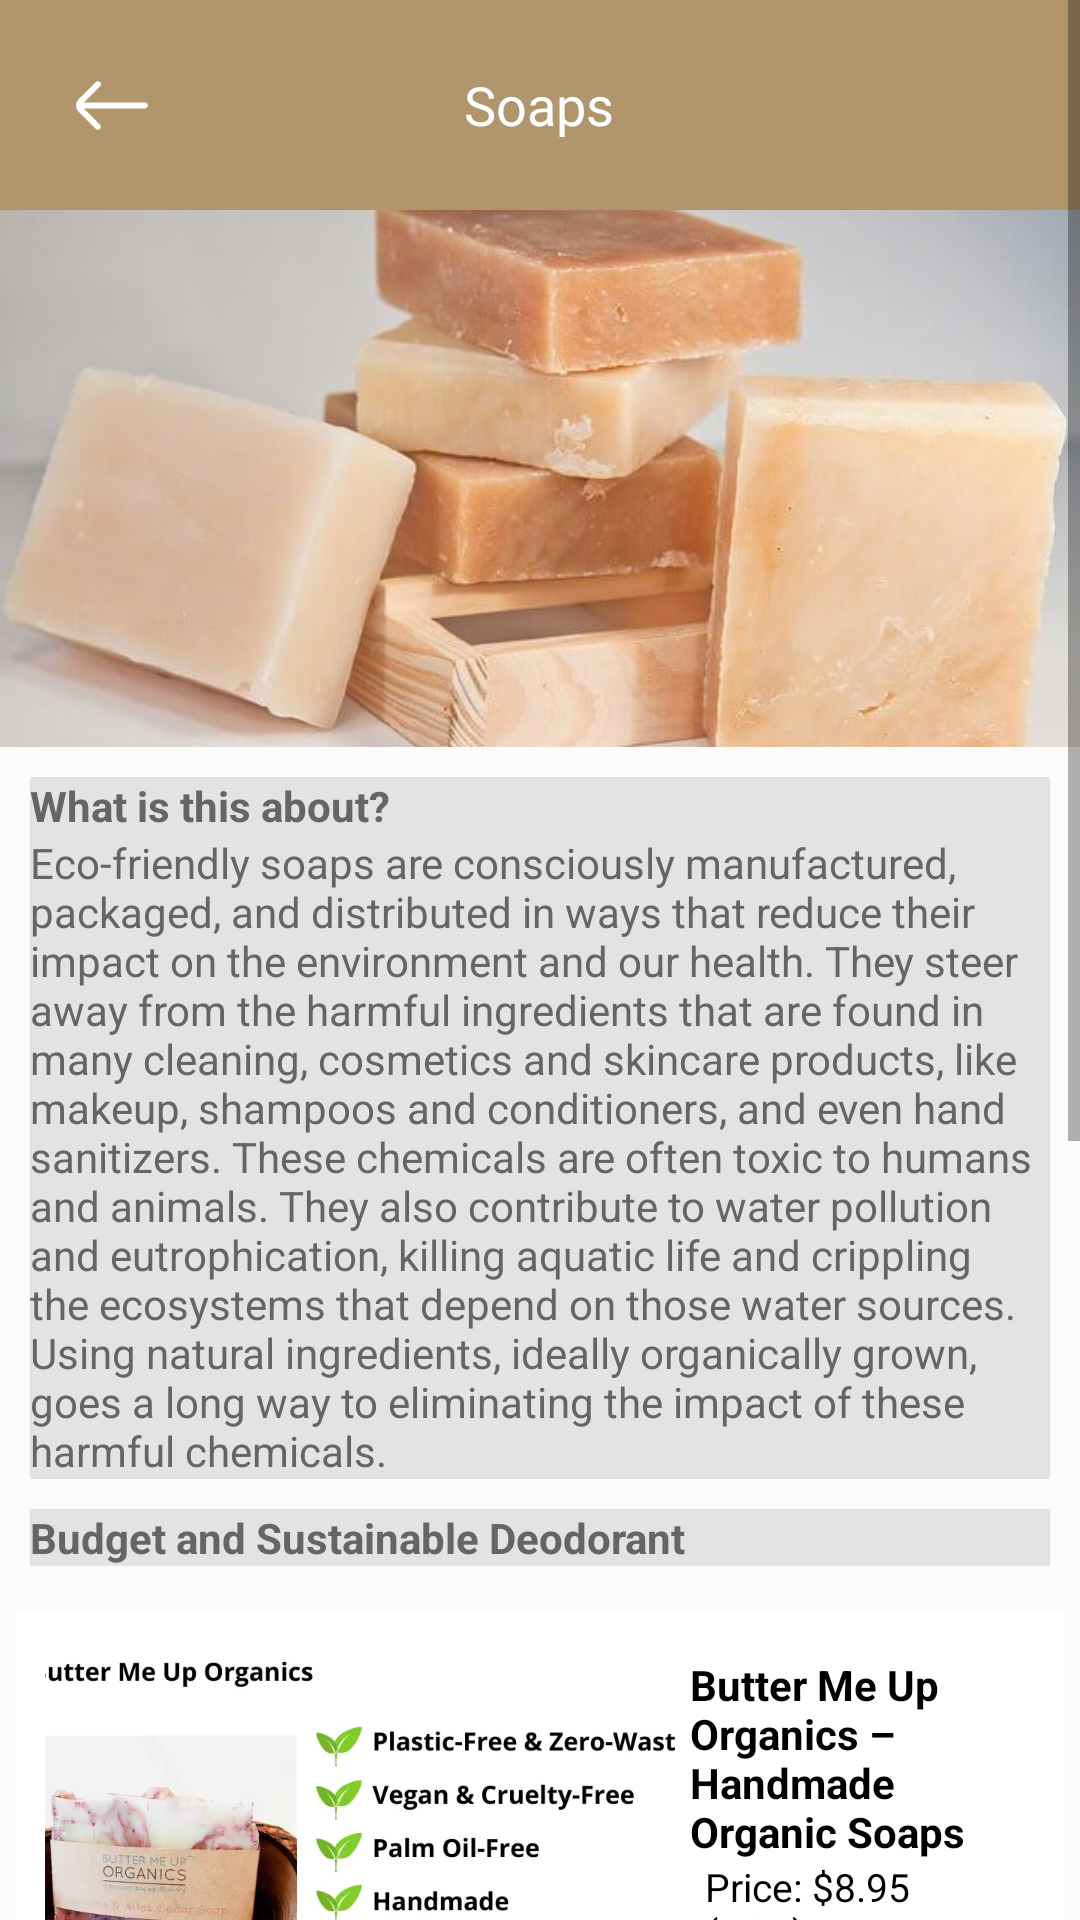

Icon click points for this 1080px×1920px phone screenshot, format [x,y]:
return: [112,105]
